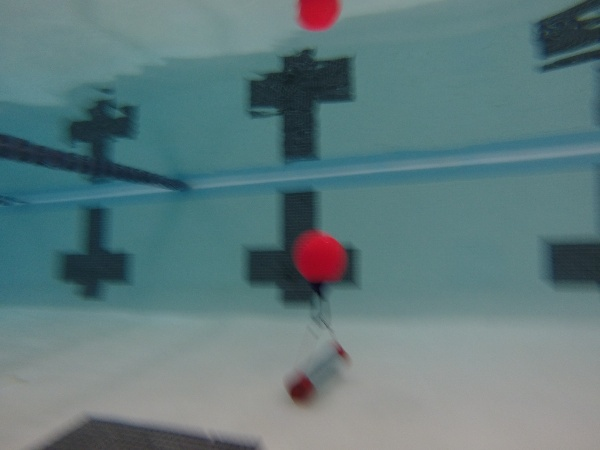buoy_red: (292, 231, 345, 296)
